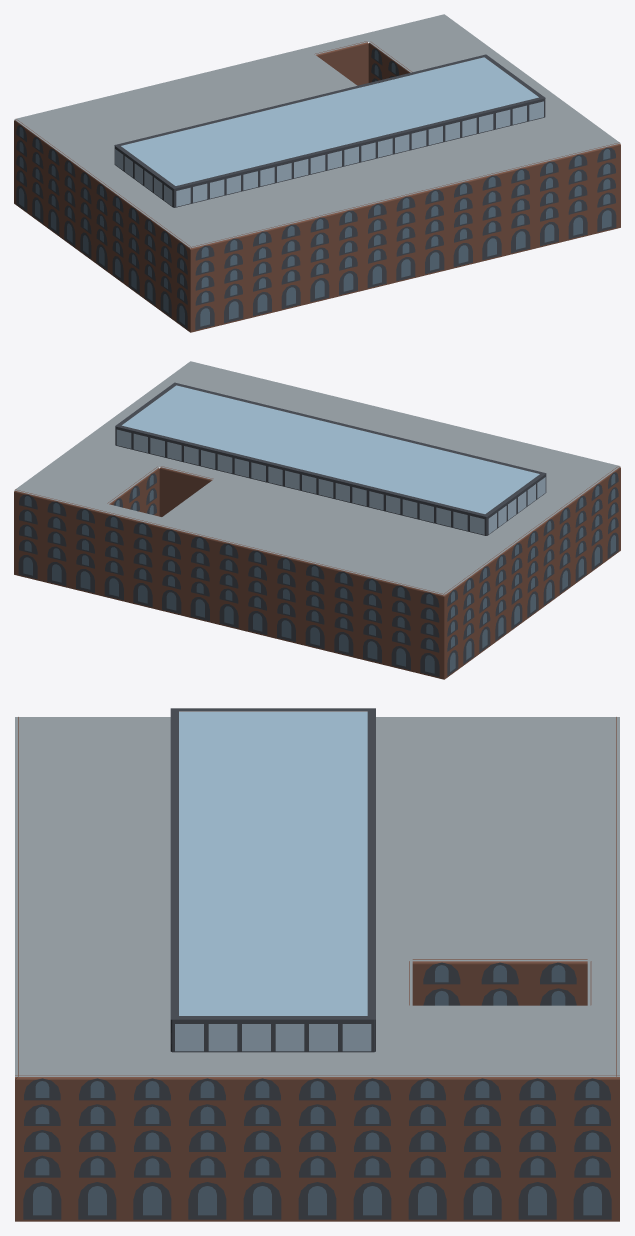
File: nyc-empire-stores.glb
The picture shows the model from 3 angles, top to bottom: view 1: azimuth 30°, elevation 25°; view 2: azimuth 150°, elevation 25°; view 3: azimuth 270°, elevation 25°; orthographic projection. The views are drawn at different scales.
Parts seen in each view (by area): view 1: Empire Stores; view 2: Empire Stores; view 3: Empire Stores.
Part boxes in pixels (box(x1,y1,x2,y2)): Empire Stores: box(14, 14, 620, 332); Empire Stores: box(14, 361, 620, 679); Empire Stores: box(15, 708, 619, 1221).
Size of the model in its own units: 81.11 by 18.6 by 57.66.
